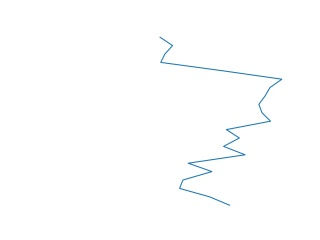floodPlain: (158, 35, 285, 208)
